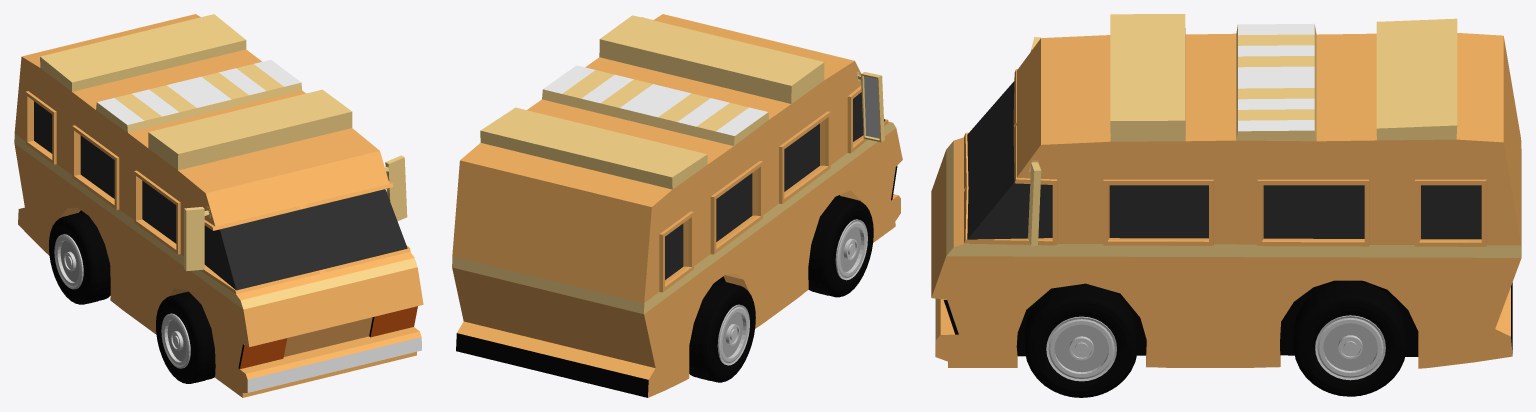
3 views of the same model, side by side, from view 1: azimuth 30°, elevation 25°; view 2: azimuth 150°, elevation 25°; view 3: azimuth 270°, elevation 25° (orthographic). The views are drawn at different scales.
Parts seen in each view (by area): view 1: BODY49, WHEEL.004, WHEEL.001; view 2: BODY49, WHEEL.004, WHEEL.001; view 3: BODY49, WHEEL.002, WHEEL.003.
Part boxes in pixels (<box>): BODY49: <box>14,14,423,397</box>; WHEEL.004: <box>49,212,110,304</box>; WHEEL.001: <box>156,291,215,383</box>; BODY49: <box>452,14,902,397</box>; WHEEL.004: <box>689,280,755,382</box>; WHEEL.001: <box>808,195,873,297</box>; BODY49: <box>931,14,1521,368</box>; WHEEL.002: <box>1293,281,1407,396</box>; WHEEL.003: <box>1024,283,1138,397</box>.
Size of the model in its own units: 147 by 137 by 270.
